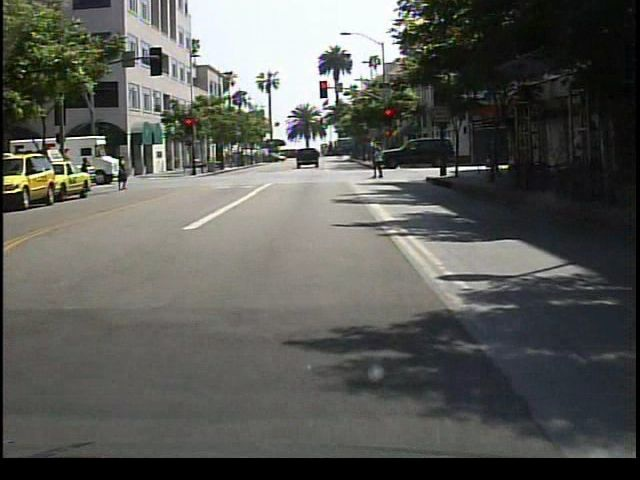person: (482, 138, 502, 184), (76, 152, 96, 190), (371, 147, 391, 181), (115, 157, 131, 194)
